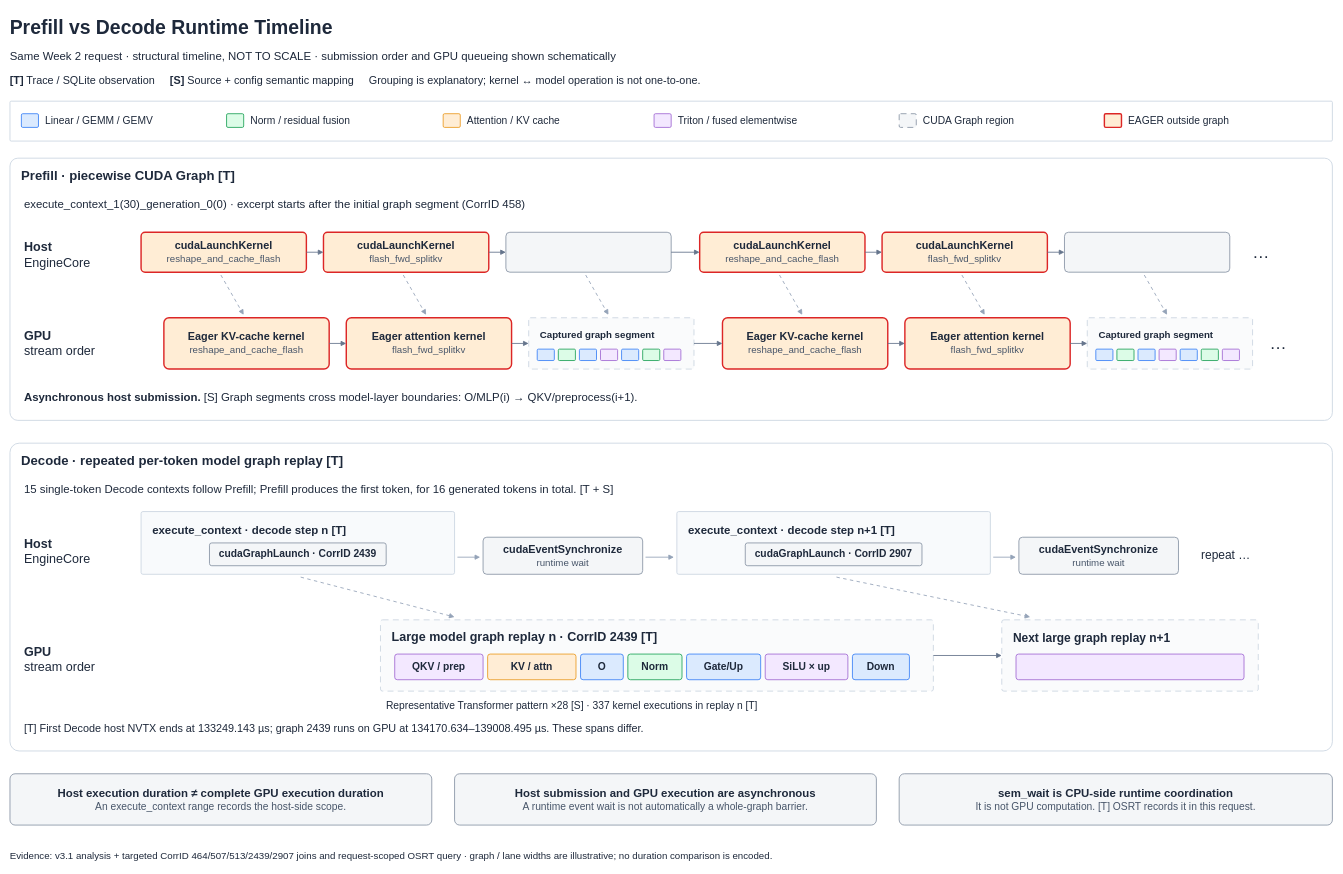
Image size: 1343x874. Some labels were removed from this diagram. Each missing label, with the box of its shape:
cudaGraphLaunch CorrID 513: (505, 232, 671, 272)
cudaGraphLaunch CorrID 568: (1064, 232, 1230, 272)
Repeated Transformer kernels ×28: (1015, 653, 1244, 680)
